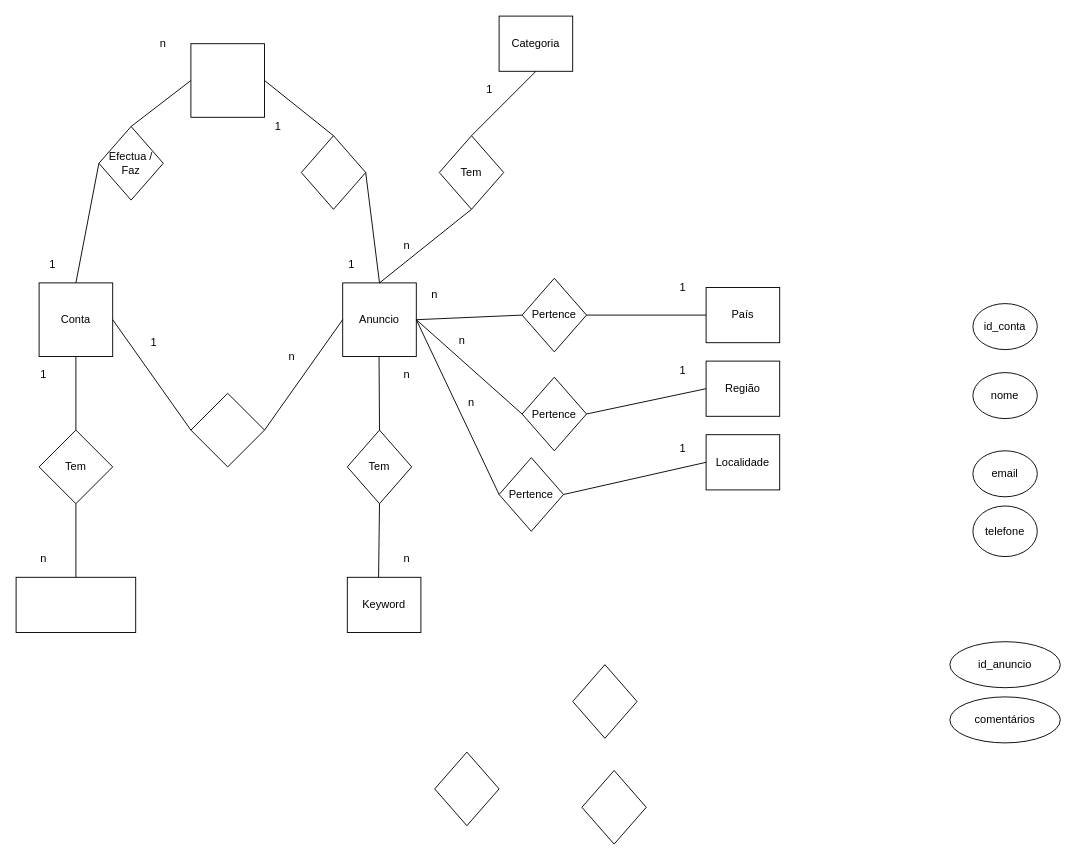
Image size: 1076x860. Some labels were removed from this diagram. The shapes that lost their labels are listed below. From the top down, each one's centre as x and y in pixels, then its label:
At point (227, 80): "Compra".
At point (333, 172): "Contem".
At point (227, 429): "Vender".
At point (75, 604): "Meio de Contacto".
